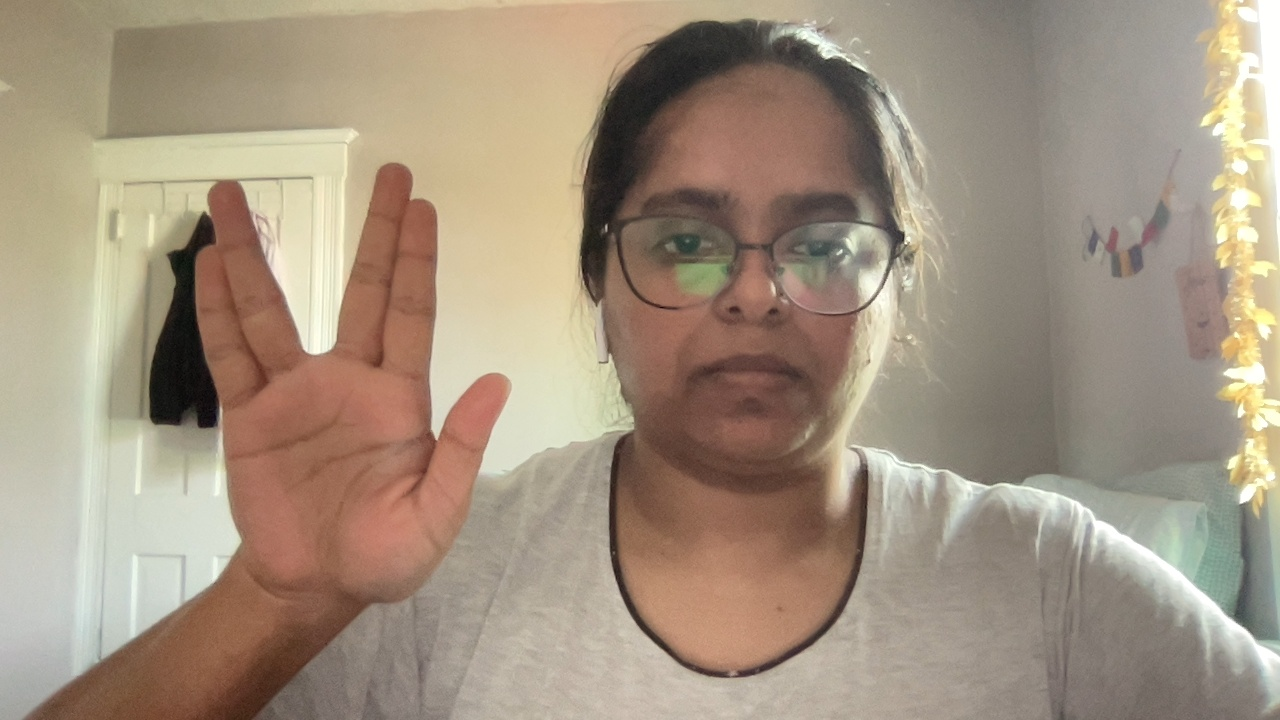LiveLong: (193, 163, 514, 605)
